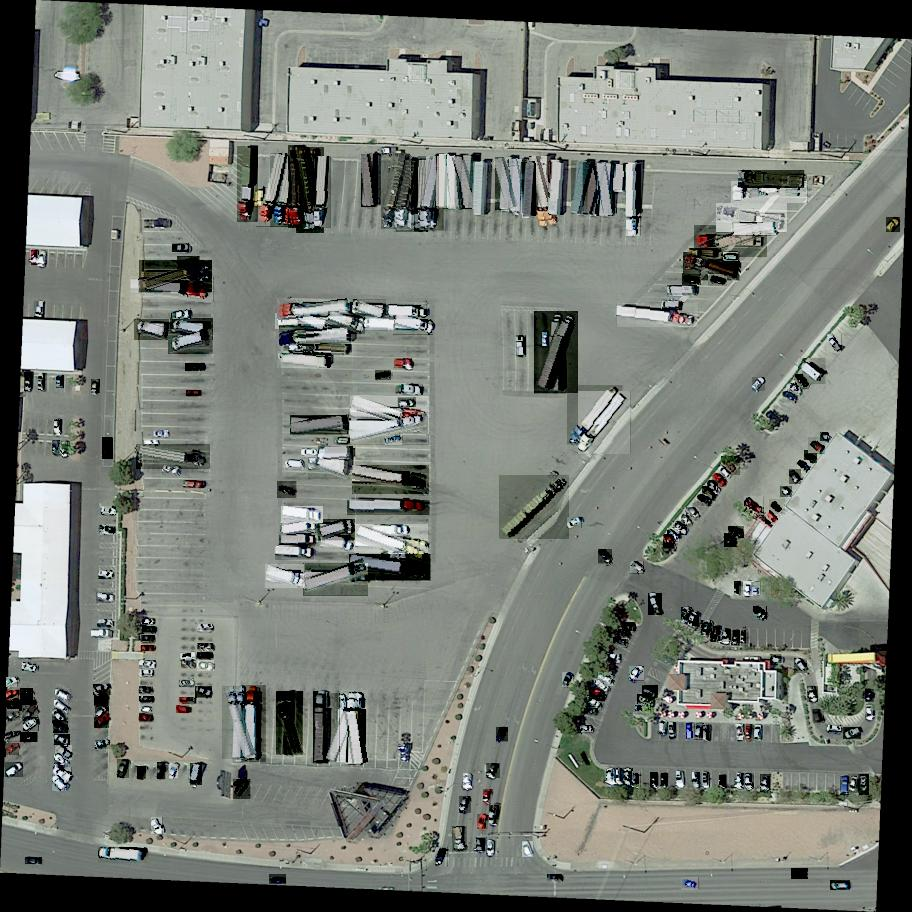large-vehicle: (499, 472, 569, 540), (534, 309, 582, 394), (568, 386, 624, 449), (579, 392, 632, 457), (349, 396, 430, 438), (354, 524, 431, 566), (348, 414, 430, 448), (347, 555, 432, 585), (222, 686, 256, 761), (529, 156, 562, 231), (139, 260, 214, 293), (694, 225, 768, 258), (716, 200, 790, 233), (296, 147, 324, 234), (382, 153, 413, 231), (256, 153, 288, 227), (352, 465, 430, 495), (270, 153, 301, 228), (129, 276, 214, 303), (327, 693, 359, 762), (303, 564, 369, 596), (340, 690, 368, 765), (617, 303, 699, 328), (418, 156, 445, 231), (396, 160, 424, 232), (136, 445, 211, 471), (242, 685, 267, 763), (276, 692, 304, 756), (732, 181, 809, 204), (684, 253, 741, 283), (277, 298, 351, 321), (238, 146, 259, 223), (288, 146, 307, 228), (280, 325, 352, 346), (456, 155, 481, 210), (291, 415, 351, 437), (495, 158, 519, 212), (738, 170, 805, 189), (308, 453, 354, 480), (571, 161, 594, 215), (347, 500, 429, 515), (584, 163, 607, 216), (315, 157, 332, 228), (313, 692, 330, 762), (167, 330, 214, 355), (509, 159, 528, 214), (597, 162, 616, 217), (414, 162, 429, 231), (265, 564, 306, 589), (170, 318, 214, 341), (361, 154, 379, 208), (627, 164, 640, 236), (277, 351, 332, 368), (318, 519, 356, 542), (328, 312, 366, 335), (449, 155, 464, 210), (393, 315, 434, 335), (549, 162, 564, 216), (134, 318, 169, 341), (524, 164, 539, 217), (98, 847, 147, 863), (285, 344, 350, 356), (319, 533, 355, 554), (351, 299, 387, 320), (797, 358, 826, 384), (280, 507, 323, 524), (474, 162, 487, 215), (733, 222, 777, 237), (298, 311, 329, 332), (280, 522, 318, 538), (439, 154, 450, 208), (389, 305, 427, 320), (318, 447, 353, 461), (373, 526, 409, 539), (275, 548, 314, 560), (276, 312, 302, 330), (363, 317, 395, 331), (279, 535, 315, 546), (453, 826, 467, 853), (689, 248, 720, 259), (614, 164, 626, 191), (381, 553, 409, 563), (190, 763, 202, 785), (668, 285, 697, 294), (516, 335, 525, 357), (284, 459, 303, 469), (662, 302, 682, 310), (333, 436, 350, 444), (255, 189, 262, 206)
small-vehicle: (744, 497, 766, 517), (721, 456, 742, 476), (234, 779, 252, 800), (177, 256, 201, 271), (277, 481, 298, 498), (22, 705, 39, 725), (649, 593, 663, 616), (435, 847, 450, 868), (808, 437, 826, 454), (5, 762, 24, 778), (828, 335, 844, 354), (637, 693, 657, 708), (769, 499, 786, 516), (681, 877, 700, 892), (848, 774, 862, 794), (682, 273, 703, 286), (55, 744, 72, 760), (53, 767, 72, 781), (642, 685, 661, 699), (401, 384, 423, 396), (117, 759, 130, 779), (708, 274, 728, 287), (23, 718, 40, 733), (53, 775, 68, 792), (151, 818, 166, 835), (586, 697, 603, 712), (843, 727, 862, 740), (102, 437, 113, 459), (886, 218, 902, 233), (629, 667, 645, 682), (598, 549, 613, 565), (590, 688, 606, 703), (459, 796, 473, 813), (597, 673, 614, 687), (55, 690, 73, 703), (859, 774, 870, 795), (760, 773, 772, 792), (791, 868, 810, 880), (52, 709, 67, 724), (764, 509, 779, 524), (673, 520, 688, 535), (54, 700, 70, 714), (54, 755, 70, 769), (487, 763, 501, 779), (796, 374, 810, 390), (595, 680, 611, 694), (753, 606, 769, 620), (710, 626, 723, 643), (171, 308, 191, 319), (830, 880, 850, 891), (489, 805, 500, 825), (195, 687, 213, 699), (385, 435, 403, 447), (95, 706, 110, 720), (713, 472, 727, 487), (797, 459, 811, 474), (703, 486, 717, 501), (752, 378, 767, 392), (34, 301, 45, 320), (806, 686, 819, 702), (496, 727, 509, 743), (562, 673, 575, 689), (19, 700, 36, 712), (54, 734, 71, 746), (94, 684, 111, 696), (786, 384, 803, 396), (782, 391, 799, 403), (99, 525, 117, 536), (197, 660, 215, 671), (794, 659, 808, 673), (724, 533, 738, 547), (804, 451, 819, 464), (789, 469, 802, 484), (630, 562, 645, 575), (95, 695, 111, 707), (567, 517, 583, 529), (398, 397, 417, 407), (268, 875, 287, 885), (5, 732, 22, 743), (21, 733, 38, 744), (97, 592, 114, 603), (94, 717, 111, 728), (21, 688, 34, 702), (686, 507, 699, 521), (5, 744, 20, 756), (54, 721, 69, 733), (157, 762, 167, 780), (395, 358, 413, 368), (698, 494, 713, 506), (664, 534, 676, 549), (813, 708, 824, 724), (735, 724, 746, 740), (478, 814, 489, 830), (522, 841, 533, 857), (728, 527, 744, 538), (623, 769, 634, 785), (841, 776, 850, 795), (38, 250, 48, 267), (163, 466, 180, 476), (375, 371, 392, 381), (632, 771, 642, 788), (694, 723, 704, 740), (743, 581, 753, 598), (667, 528, 680, 541), (707, 481, 721, 493), (139, 713, 154, 724), (689, 612, 700, 627), (23, 663, 39, 673), (745, 773, 755, 789), (635, 703, 651, 713), (702, 620, 712, 636), (719, 466, 732, 478), (681, 516, 693, 529), (180, 652, 197, 661), (183, 480, 202, 488), (24, 372, 32, 391), (5, 691, 20, 701), (52, 441, 62, 456), (731, 631, 741, 646), (139, 661, 157, 669), (197, 652, 213, 661), (95, 741, 111, 750), (866, 704, 875, 720), (780, 487, 793, 498), (6, 712, 20, 722), (5, 677, 19, 687), (185, 363, 205, 370), (101, 506, 116, 515), (92, 379, 101, 394), (723, 252, 738, 261), (650, 772, 659, 787), (484, 789, 493, 804), (613, 638, 628, 647), (770, 654, 783, 664), (865, 689, 875, 702), (682, 608, 692, 621), (619, 630, 632, 640), (62, 441, 70, 457), (98, 571, 114, 579), (170, 763, 178, 779), (142, 636, 156, 645), (139, 687, 153, 696), (7, 701, 22, 709), (486, 840, 494, 855), (92, 630, 109, 637), (25, 857, 42, 864), (172, 245, 189, 252), (153, 430, 169, 437), (97, 619, 111, 627), (142, 626, 156, 634), (39, 374, 46, 390), (176, 705, 190, 713), (302, 449, 316, 457), (754, 725, 762, 739), (660, 720, 668, 734), (687, 723, 694, 739), (622, 623, 636, 631), (723, 629, 731, 643), (820, 432, 831, 442), (179, 680, 194, 687), (464, 774, 471, 789), (138, 766, 146, 779), (141, 645, 155, 652), (57, 376, 65, 388), (54, 420, 61, 433), (585, 708, 598, 715), (581, 726, 594, 733), (746, 724, 752, 739), (669, 723, 675, 738), (542, 332, 548, 346), (477, 839, 484, 851), (547, 875, 561, 881), (693, 773, 700, 785), (754, 583, 761, 595), (828, 726, 841, 732), (606, 769, 612, 782), (198, 644, 213, 649), (198, 624, 213, 629), (140, 706, 152, 712), (676, 771, 682, 783), (741, 631, 747, 643), (187, 391, 201, 396), (145, 440, 158, 445), (737, 774, 742, 787), (703, 773, 708, 786), (608, 655, 621, 660), (735, 581, 740, 594), (142, 619, 154, 624), (661, 774, 667, 784), (719, 776, 725, 786), (32, 250, 36, 264), (140, 670, 154, 674), (139, 697, 153, 701), (180, 697, 193, 701), (704, 726, 708, 739), (617, 769, 621, 781), (182, 662, 193, 666)
